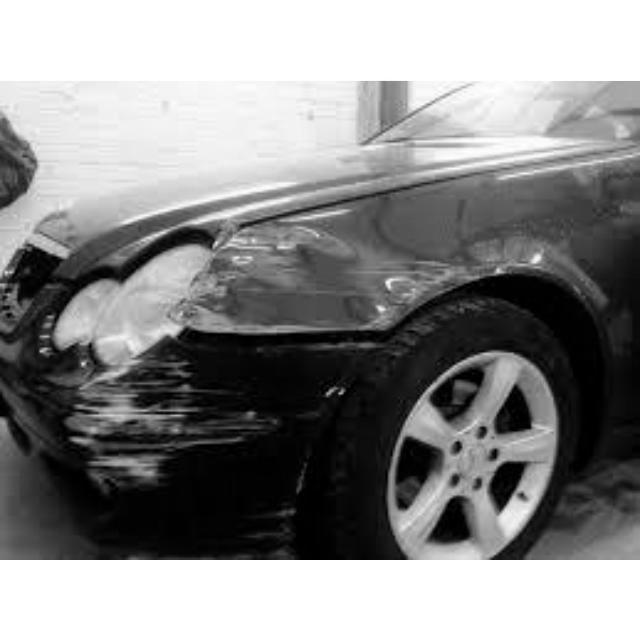fender-dent: (223, 184, 630, 332)
front-bumper-dent: (18, 340, 309, 535)
